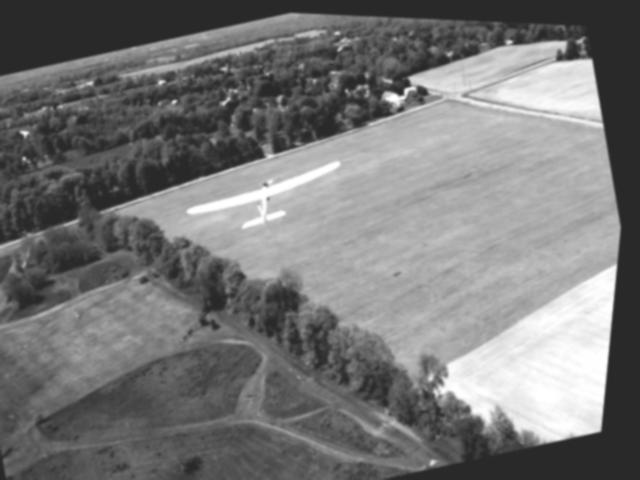hedef: (174, 138, 363, 264)
